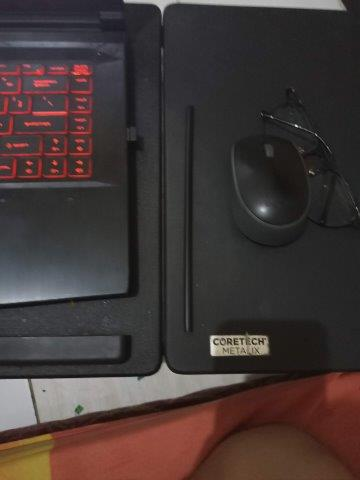sedotan: (183, 106, 194, 333)
